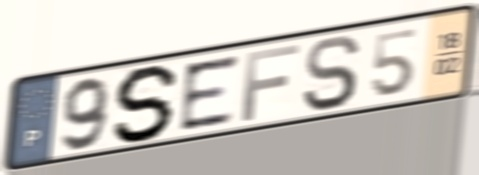5: (367, 25, 421, 100)
9: (60, 73, 112, 153)
E: (178, 51, 242, 135)
F: (240, 41, 304, 124)
S: (110, 62, 184, 144), (299, 33, 364, 114)
